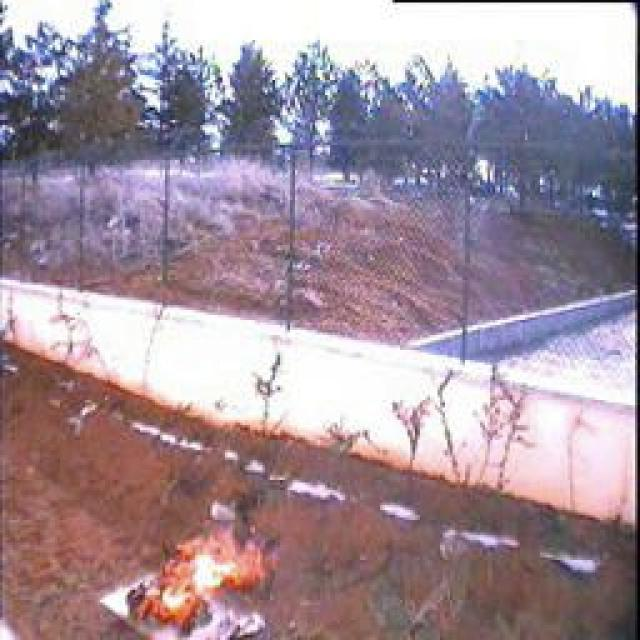Fire: (122, 510, 277, 639)
